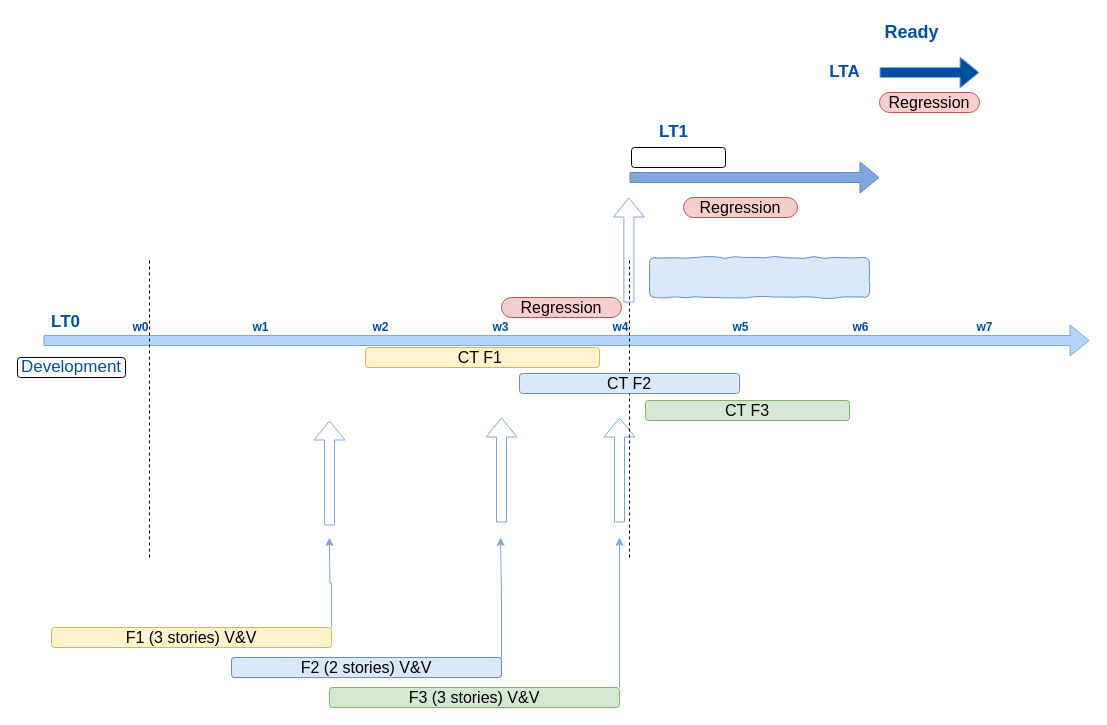
The diagram is 1107 pixels wide and 725 high, and some of its shapes have lost their labels. The shapes that lost their labels are listed below. From the top down, each one's box as (x1, y1, x2, y2) in pixels, then its label:
(630, 146, 726, 168): Release
(648, 256, 870, 298): frozen
